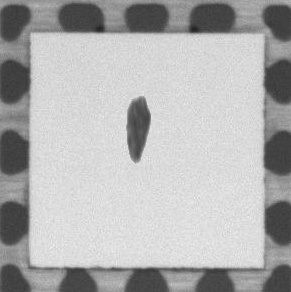DIE_INK: (124, 92, 152, 167)
